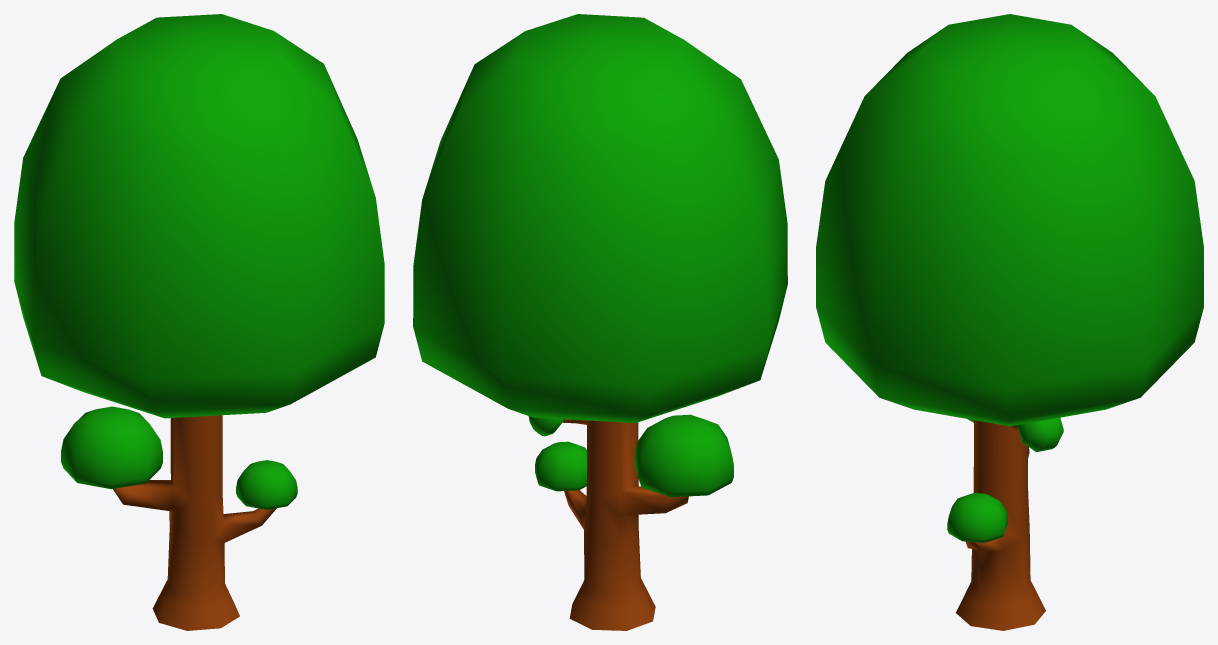
Rendered from roundedtree.fbx.
3 renders of one model, left to right at view 1: azimuth 30°, elevation 25°; view 2: azimuth 150°, elevation 25°; view 3: azimuth 270°, elevation 25°, orthographic.
Visible parts, largest first — view 1: dalli.agac; view 2: dalli.agac; view 3: dalli.agac.
Boxes of the visible parts, x1,y1,x2,y2 form: dalli.agac: [14, 14, 384, 630]; dalli.agac: [413, 14, 787, 630]; dalli.agac: [816, 14, 1203, 630].
Size of the model in its own units: 251 by 411 by 251.
